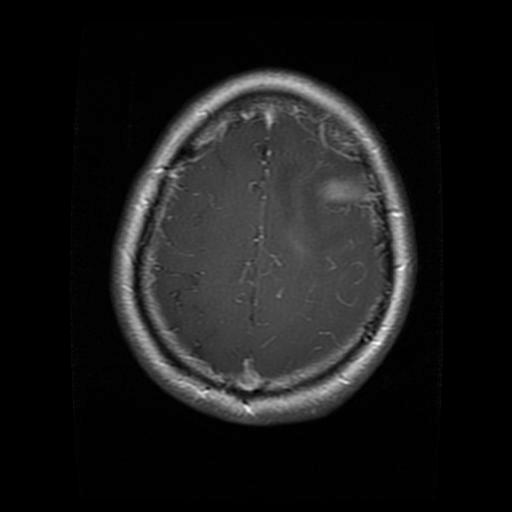Tumour-Glioma: (299, 158, 376, 221)
